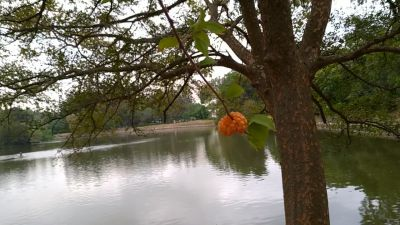eggs: (215, 111, 249, 138)
